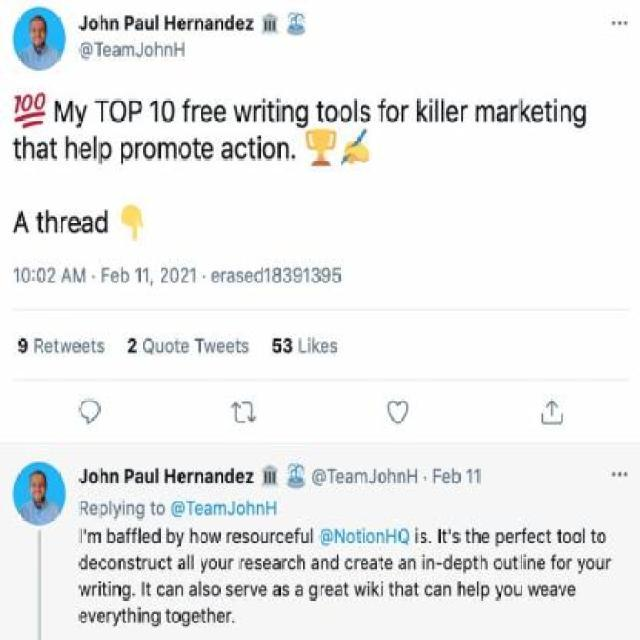0: (162, 100, 176, 122), (37, 266, 46, 282), (170, 266, 179, 282), (22, 266, 30, 282)
1: (150, 100, 158, 122), (190, 266, 196, 286), (472, 468, 480, 483), (143, 266, 149, 283), (134, 266, 140, 282), (264, 266, 270, 282), (303, 266, 309, 282), (466, 468, 472, 484), (14, 268, 18, 282)
2: (47, 266, 56, 282), (127, 337, 136, 352), (160, 266, 168, 282), (180, 266, 188, 282)
3: (282, 266, 292, 282), (311, 266, 320, 282), (283, 338, 292, 353)
5: (272, 338, 282, 353), (333, 266, 341, 282)
8: (272, 266, 282, 282)
9: (18, 338, 28, 353), (293, 266, 302, 282), (322, 266, 329, 282)
A: (13, 210, 30, 233), (496, 104, 510, 124), (220, 142, 234, 160), (36, 142, 49, 160), (81, 217, 94, 232), (61, 266, 70, 282), (188, 584, 198, 598), (294, 584, 304, 598), (134, 18, 144, 31), (134, 471, 144, 484), (164, 584, 173, 598), (404, 584, 413, 598), (204, 18, 213, 31), (204, 471, 213, 484), (398, 558, 407, 571), (112, 44, 120, 58), (227, 270, 235, 284), (204, 502, 212, 516), (272, 584, 280, 598), (334, 584, 342, 598), (434, 584, 442, 598), (550, 584, 558, 598), (345, 471, 353, 484), (117, 531, 125, 544), (272, 558, 280, 570), (312, 558, 320, 570), (369, 558, 377, 570), (178, 558, 185, 570)
B: (107, 527, 116, 544), (167, 527, 176, 544), (120, 266, 128, 282), (452, 468, 460, 483)
C: (235, 140, 248, 160), (537, 530, 546, 544), (157, 584, 166, 598), (424, 584, 433, 598), (98, 556, 106, 570), (158, 558, 167, 570), (276, 531, 284, 544), (288, 558, 296, 570), (345, 558, 353, 570)
D: (95, 210, 108, 233), (78, 554, 88, 570), (224, 14, 233, 31), (254, 266, 263, 282), (224, 468, 233, 483), (152, 528, 160, 544), (444, 554, 452, 570), (331, 554, 338, 571)
E: (200, 140, 214, 160), (79, 140, 92, 160), (213, 104, 227, 122), (530, 104, 544, 122), (446, 104, 459, 122), (200, 104, 212, 122), (68, 216, 80, 233), (78, 610, 88, 624), (211, 270, 220, 284), (467, 584, 476, 598), (217, 610, 226, 624), (176, 19, 187, 30), (44, 341, 53, 354), (180, 342, 189, 355), (177, 471, 186, 484), (527, 531, 536, 544), (103, 44, 111, 58), (90, 502, 98, 516), (285, 530, 293, 544), (264, 556, 272, 570), (234, 584, 242, 598), (258, 584, 266, 598), (325, 584, 333, 598), (540, 584, 548, 598), (567, 584, 575, 598), (97, 610, 105, 624), (192, 610, 200, 624), (89, 558, 98, 570), (244, 558, 253, 570), (384, 558, 393, 570), (537, 558, 546, 570), (72, 341, 80, 354), (82, 341, 90, 354), (217, 341, 225, 354), (226, 342, 234, 355), (320, 341, 328, 354), (236, 471, 244, 484), (335, 471, 343, 484), (443, 471, 451, 484), (142, 531, 150, 544), (232, 531, 240, 544), (505, 531, 513, 544), (245, 270, 252, 284), (482, 530, 489, 544), (454, 558, 462, 570), (236, 19, 244, 30), (195, 504, 202, 516), (361, 558, 368, 570), (110, 272, 118, 282)
F: (183, 98, 191, 124), (378, 98, 386, 122), (433, 468, 441, 484), (125, 528, 132, 544), (102, 268, 110, 282), (131, 528, 137, 544), (294, 528, 300, 544), (522, 528, 526, 544), (552, 554, 556, 570)
G: (572, 104, 586, 128), (295, 104, 308, 128), (136, 504, 146, 520), (151, 611, 160, 627), (182, 610, 190, 628), (310, 584, 318, 601), (122, 584, 130, 600)
H: (65, 134, 78, 160), (45, 208, 58, 234), (22, 135, 35, 160), (172, 41, 185, 57), (164, 15, 176, 30), (164, 468, 176, 483), (407, 468, 418, 484), (266, 500, 277, 516), (386, 528, 396, 544), (127, 608, 136, 624), (100, 14, 108, 31), (190, 527, 198, 544), (472, 527, 480, 544), (154, 41, 162, 57), (247, 500, 255, 516), (298, 554, 306, 570), (480, 554, 488, 570), (395, 580, 403, 596), (458, 580, 466, 596), (100, 468, 108, 483), (388, 468, 396, 483), (208, 608, 215, 624)
I: (275, 98, 280, 122), (429, 98, 434, 122), (256, 134, 261, 158), (553, 98, 558, 120), (262, 98, 266, 120), (414, 527, 418, 544), (108, 580, 112, 596), (142, 580, 146, 596), (122, 500, 126, 514), (523, 554, 526, 570), (137, 606, 140, 622), (437, 528, 440, 544), (98, 580, 100, 597), (368, 580, 370, 597), (363, 527, 365, 544), (422, 554, 424, 570), (380, 580, 382, 596), (80, 528, 82, 544), (308, 338, 310, 353)
J: (78, 15, 88, 30), (135, 41, 143, 57), (79, 468, 87, 484), (369, 468, 377, 484), (228, 501, 235, 516)
K: (518, 98, 531, 124), (416, 98, 429, 122), (312, 337, 320, 352), (372, 580, 379, 597)
L: (298, 338, 306, 353), (354, 98, 358, 122), (93, 134, 96, 158), (582, 528, 586, 544), (311, 527, 314, 544), (442, 98, 444, 122), (436, 100, 438, 122), (191, 556, 194, 570), (156, 467, 158, 484), (520, 554, 522, 571), (156, 14, 158, 30), (198, 580, 200, 596), (476, 580, 478, 596), (110, 500, 112, 514), (138, 528, 140, 542), (186, 556, 188, 570)
M: (54, 100, 74, 122), (157, 140, 177, 160), (476, 104, 496, 122), (72, 266, 86, 282), (212, 502, 226, 516), (122, 45, 136, 58), (88, 531, 101, 544), (354, 472, 368, 482)
N: (276, 140, 290, 160), (558, 105, 572, 122), (281, 104, 294, 122), (334, 528, 344, 544), (442, 584, 452, 598), (110, 18, 119, 31), (194, 18, 203, 31), (214, 18, 223, 31), (214, 471, 223, 484), (527, 558, 536, 571), (112, 584, 120, 598), (175, 584, 183, 598), (142, 610, 150, 624), (110, 471, 118, 484), (398, 471, 406, 484), (165, 44, 172, 58), (118, 558, 126, 570), (408, 558, 416, 570), (427, 558, 435, 570), (195, 472, 203, 483), (321, 558, 328, 570), (126, 504, 134, 514), (257, 504, 265, 514), (376, 532, 384, 542)
O: (110, 98, 127, 124), (142, 140, 156, 160), (338, 104, 352, 122), (178, 142, 192, 160), (262, 142, 276, 160), (324, 105, 338, 122), (386, 105, 399, 122), (562, 530, 572, 544), (572, 531, 582, 544), (144, 44, 153, 58), (157, 502, 166, 516), (237, 502, 246, 516), (108, 556, 117, 570), (211, 584, 220, 598), (89, 471, 98, 484), (378, 471, 387, 484), (250, 530, 258, 544), (347, 530, 355, 544), (209, 556, 217, 570), (172, 610, 180, 624), (557, 558, 566, 570), (504, 584, 513, 596), (90, 18, 98, 31), (200, 531, 208, 544), (494, 558, 502, 570), (586, 558, 594, 570), (164, 342, 173, 352), (597, 532, 606, 542), (367, 532, 375, 542)
P: (128, 100, 142, 123), (119, 142, 133, 164), (99, 142, 112, 164), (124, 468, 134, 484), (125, 15, 134, 30), (100, 503, 108, 519), (495, 531, 503, 547), (463, 558, 471, 574), (482, 585, 489, 601)
Q: (141, 337, 154, 355), (398, 528, 410, 546)
R: (135, 140, 143, 160), (253, 104, 261, 122), (460, 104, 468, 122), (192, 105, 200, 122), (60, 216, 68, 233), (80, 500, 88, 517), (34, 338, 43, 353), (401, 104, 408, 122), (511, 104, 518, 122), (186, 471, 194, 484), (226, 531, 232, 544), (514, 531, 520, 544), (228, 558, 234, 571), (240, 558, 246, 571), (282, 558, 288, 571), (221, 270, 227, 282), (142, 558, 148, 570), (354, 558, 360, 570), (566, 558, 572, 570), (91, 586, 98, 596), (320, 584, 325, 598), (106, 610, 111, 624), (188, 19, 194, 30), (270, 532, 276, 543), (605, 558, 610, 570), (226, 612, 232, 622), (244, 584, 248, 596)
S: (358, 104, 372, 122), (418, 531, 428, 544), (240, 340, 249, 354), (235, 270, 243, 284), (225, 584, 233, 598), (282, 584, 290, 598), (202, 584, 210, 598), (97, 341, 105, 354), (330, 341, 338, 354), (242, 531, 250, 544), (128, 558, 136, 570), (254, 558, 262, 570), (452, 532, 459, 543)
T: (96, 100, 110, 122), (92, 41, 103, 57), (316, 100, 324, 122), (544, 102, 552, 124), (13, 138, 21, 160), (192, 138, 200, 160), (35, 212, 43, 234), (193, 338, 204, 353), (267, 102, 275, 122), (49, 139, 57, 159), (248, 138, 255, 160), (327, 468, 336, 484), (187, 500, 196, 516), (101, 582, 108, 596), (90, 338, 96, 354), (234, 338, 240, 354), (546, 528, 552, 544), (166, 554, 172, 570), (146, 581, 152, 597), (173, 338, 179, 353), (150, 502, 156, 516), (442, 530, 448, 544), (556, 529, 562, 543), (590, 528, 596, 542), (378, 556, 384, 570), (472, 556, 478, 570), (388, 582, 394, 596), (121, 608, 127, 622), (201, 608, 207, 622), (465, 528, 470, 544), (356, 528, 361, 544), (52, 340, 58, 352), (135, 556, 140, 570), (513, 556, 518, 570), (165, 609, 170, 623), (344, 582, 348, 596), (414, 582, 418, 596)
U: (144, 471, 154, 484), (300, 530, 309, 544), (218, 558, 228, 570), (260, 530, 268, 544), (514, 584, 522, 598), (144, 19, 154, 30), (154, 342, 164, 353), (148, 559, 157, 570), (504, 558, 512, 570), (596, 558, 604, 570)
V: (88, 610, 97, 624), (250, 584, 258, 598), (559, 584, 567, 598)
W: (234, 104, 252, 122), (354, 584, 368, 598), (527, 584, 541, 598), (203, 342, 217, 355), (208, 531, 221, 544), (58, 342, 72, 352), (79, 584, 90, 596)
Y: (74, 104, 88, 128), (113, 503, 122, 519), (494, 584, 503, 600), (112, 610, 121, 626), (176, 532, 184, 548), (200, 558, 208, 574), (578, 558, 586, 574)
Z: (244, 470, 253, 484), (244, 18, 253, 31)
